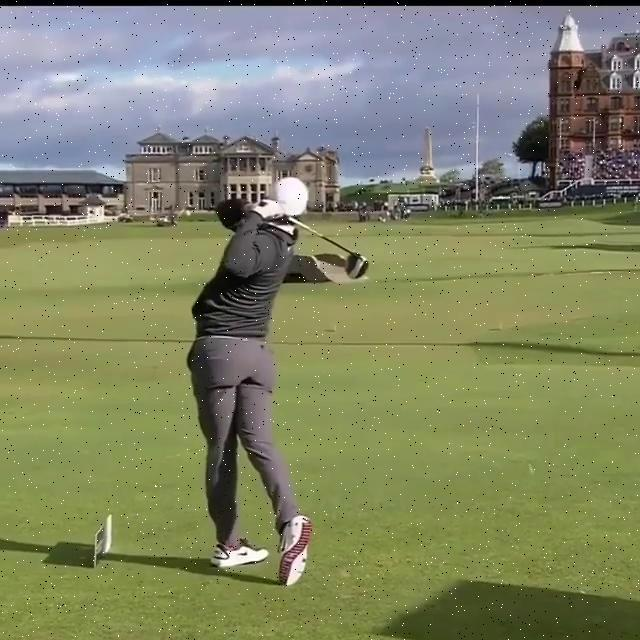golf club-handle: (259, 200, 369, 283)
golf club-head: (344, 251, 367, 280)
